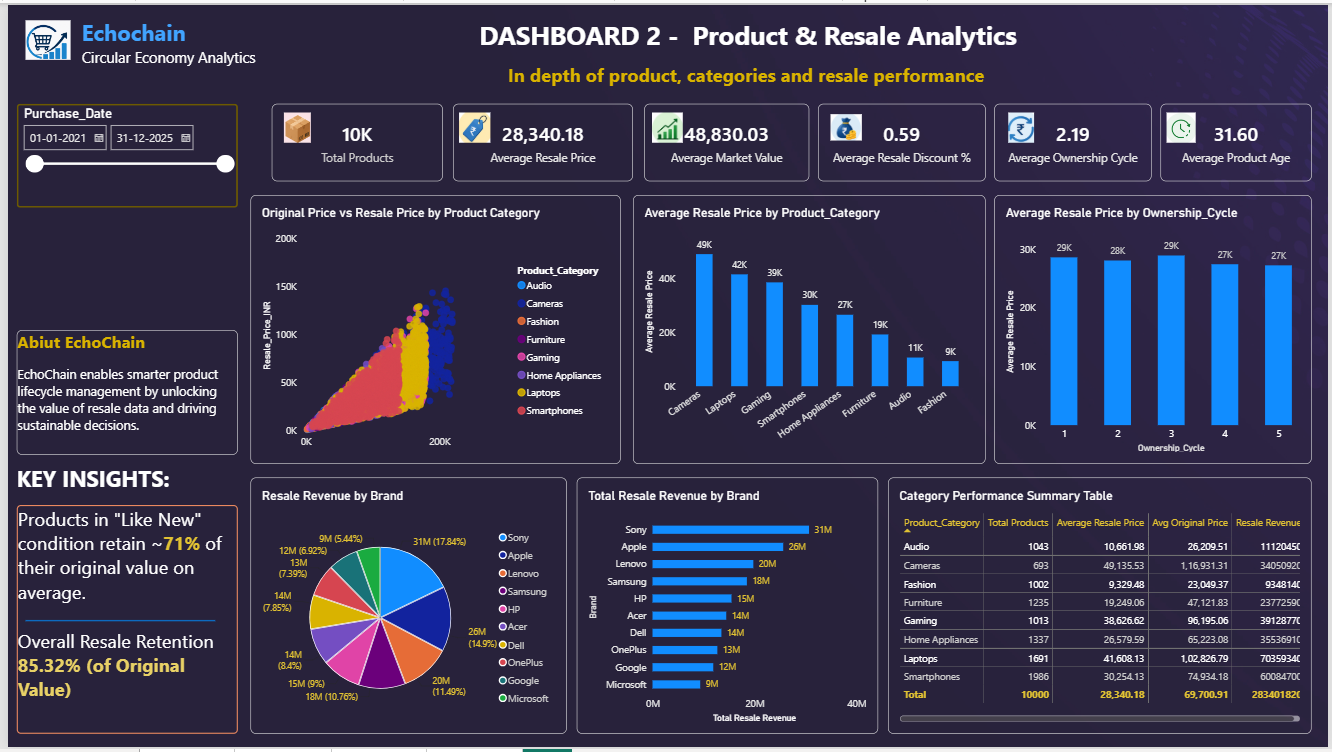

The page's visual inventory and layout, read from the dashboard file:
{"tool":"powerbi","page":{"name":"Page 2","canvas":[1920,1080],"ordinal":1},"visuals":[{"type":"image","box":[25.5,18.2,65.5,65.5],"z":0},{"type":"textbox","box":[107.3,18.2,343.6,87.3],"z":1000},{"type":"textbox","box":[685.5,18.2,1187.3,65.5],"z":2000},{"type":"textbox","box":[727.3,83.6,723.6,47.3],"z":3000},{"type":"card","fields":{"Values":["EchoChain_Data_Cleaned.Total Products"]},"box":[383.6,143.6,249.1,112.7],"z":4000},{"type":"card","fields":{"Values":["EchoChain_Data_Cleaned.Average Resale Price"]},"box":[647.3,143.6,261.8,112.7],"z":5000},{"type":"card","fields":{"Values":["EchoChain_Data_Cleaned.Average Market Value"]},"box":[925.5,143.6,240,112.7],"z":6000},{"type":"card","fields":{"Values":["EchoChain_Data_Cleaned.Average Resale Discount %"]},"box":[1178.2,143.6,243.6,112.7],"z":7000},{"type":"card","fields":{"Values":["EchoChain_Data_Cleaned.Average Ownership Cycle"]},"box":[1434.5,143.6,229.1,112.7],"z":8000},{"type":"card","fields":{"Values":["EchoChain_Data_Cleaned.Average Product Age"]},"box":[1676.4,143.6,220,112.7],"z":9000},{"type":"scatterChart","title":"Original Price vs Resale Price by Product Category","fields":{"Y":["EchoChain_Data_Cleaned.Resale_Price_INR"],"X":["EchoChain_Data_Cleaned.Original_Price_INR"],"Series":["EchoChain_Data_Cleaned.Product_Category"]},"box":[352.7,276.4,538.2,390.9],"z":10000},{"type":"columnChart","fields":{"Category":["EchoChain_Data_Cleaned.Product_Category"],"Y":["EchoChain_Data_Cleaned.Average Resale Price"]},"box":[909.1,276.4,512.7,390.9],"z":11000},{"type":"tableEx","title":"Category Performance Summary Table","fields":{"Values":["EchoChain_Data_Cleaned.Product_Category","EchoChain_Data_Cleaned.Total Products","EchoChain_Data_Cleaned.Average Resale Price","EchoChain_Data_Cleaned.Avg Original Price","EchoChain_Data_Cleaned.Resale Revenue"]},"box":[1280,687.3,616.4,372.7],"z":12000},{"type":"clusteredBarChart","fields":{"Category":["EchoChain_Data_Cleaned.Brand"],"Y":["EchoChain_Data_Cleaned.Total Resale Revenue"]},"box":[827.3,687.3,438.2,372.7],"z":13000},{"type":"columnChart","fields":{"Category":["EchoChain_Data_Cleaned.Ownership_Cycle"],"Y":["EchoChain_Data_Cleaned.Average Resale Price"]},"box":[1434.5,276.4,461.8,390.9],"z":14000},{"type":"pieChart","fields":{"Category":["EchoChain_Data_Cleaned.Brand"],"Y":["EchoChain_Data_Cleaned.Resale Revenue"]},"box":[352.7,687.3,460,372.7],"z":15000},{"type":"slicer","fields":{"Values":["EchoChain_Data_Cleaned.Purchase_Date"]},"box":[12.7,130.9,321.8,260],"z":16000},{"type":"textbox","box":[12.7,727.3,321.8,332.7],"z":17000},{"type":"shape","box":[25.5,867.3,276.4,56.4],"z":18000},{"type":"textbox","box":[12.7,667.3,321.8,60],"z":19000},{"type":"image","box":[390.9,156.4,60,43.6],"z":20000},{"type":"image","box":[647.3,156.4,63.6,43.6],"z":21000},{"type":"image","box":[932.7,156.4,52.7,43.6],"z":22000},{"type":"image","box":[1196.4,156.4,45.5,43.6],"z":23000},{"type":"image","box":[1450.9,156.4,45.5,43.6],"z":24000},{"type":"image","box":[1676.4,156.4,60,43.6],"z":25000},{"type":"textbox","box":[12.7,472.7,321.8,181.8],"z":26000}]}

Visuals, with their boxes in screenshot pixels (x1, y1, x2, y2), scaled from the page's 1920x1080 canvas onto the 1332x752 screenshot:
image: region(18, 13, 63, 58)
textbox: region(74, 13, 313, 73)
textbox: region(476, 13, 1299, 58)
textbox: region(505, 58, 1007, 91)
card - EchoChain_Data_Cleaned.Total Products: region(266, 100, 439, 178)
card - EchoChain_Data_Cleaned.Average Resale Price: region(449, 100, 631, 178)
card - EchoChain_Data_Cleaned.Average Market Value: region(642, 100, 809, 178)
card - EchoChain_Data_Cleaned.Average Resale Discount %: region(817, 100, 986, 178)
card - EchoChain_Data_Cleaned.Average Ownership Cycle: region(995, 100, 1154, 178)
card - EchoChain_Data_Cleaned.Average Product Age: region(1163, 100, 1316, 178)
"Original Price vs Resale Price by Product Category" scatterChart: region(245, 192, 618, 465)
columnChart - EchoChain_Data_Cleaned.Product_Category x EchoChain_Data_Cleaned.Average Resale Price: region(631, 192, 986, 465)
"Category Performance Summary Table" tableEx: region(888, 479, 1316, 738)
clusteredBarChart - EchoChain_Data_Cleaned.Brand x EchoChain_Data_Cleaned.Total Resale Revenue: region(574, 479, 878, 738)
columnChart - EchoChain_Data_Cleaned.Ownership_Cycle x EchoChain_Data_Cleaned.Average Resale Price: region(995, 192, 1316, 465)
pieChart - EchoChain_Data_Cleaned.Brand x EchoChain_Data_Cleaned.Resale Revenue: region(245, 479, 564, 738)
slicer - EchoChain_Data_Cleaned.Purchase_Date: region(9, 91, 232, 272)
textbox: region(9, 506, 232, 738)
shape: region(18, 604, 209, 643)
textbox: region(9, 465, 232, 506)
image: region(271, 109, 313, 139)
image: region(449, 109, 493, 139)
image: region(647, 109, 684, 139)
image: region(830, 109, 862, 139)
image: region(1007, 109, 1038, 139)
image: region(1163, 109, 1205, 139)
textbox: region(9, 329, 232, 456)
